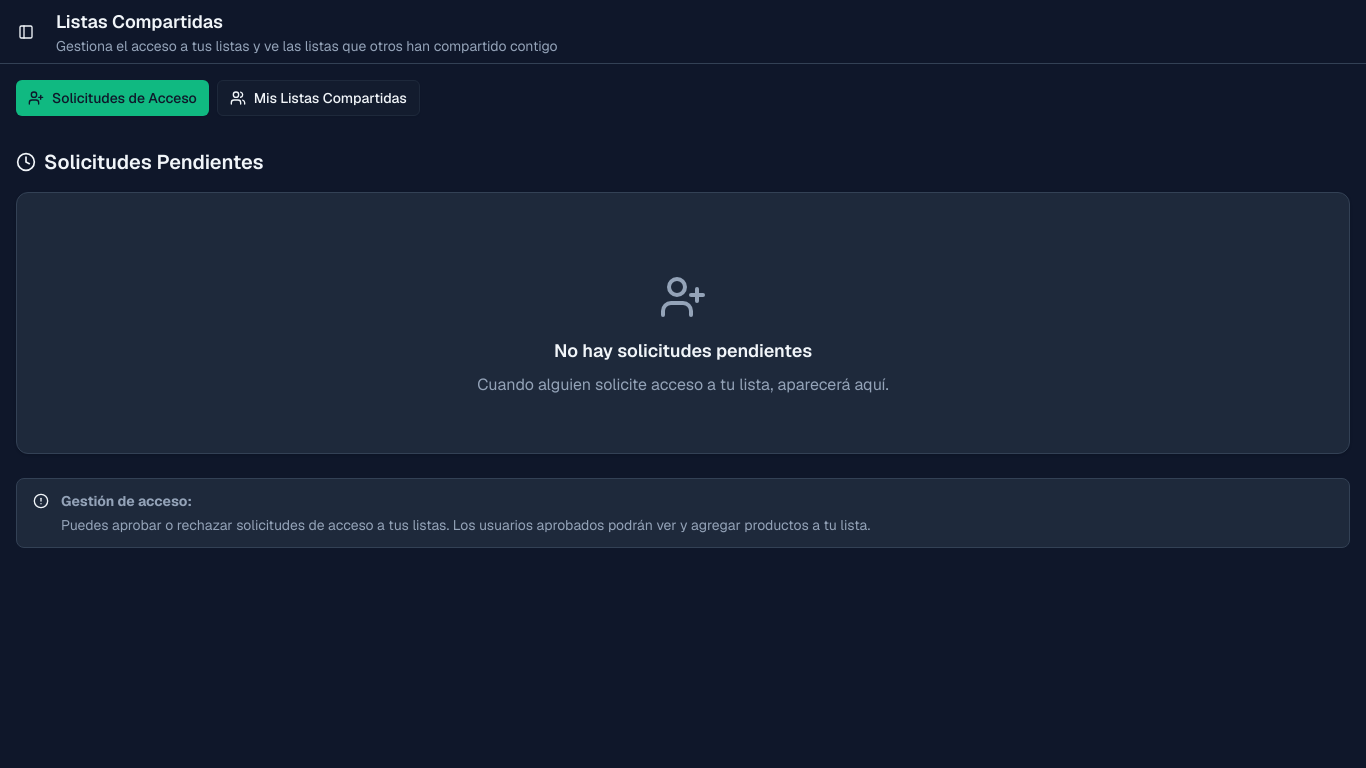
Scenario: SharedListsPage › should show empty state when no shared lists
The image size is (1366, 768).
Click the button "Mis Listas Compartidas". click: (318, 98)
box: 217,80 -> 420,116
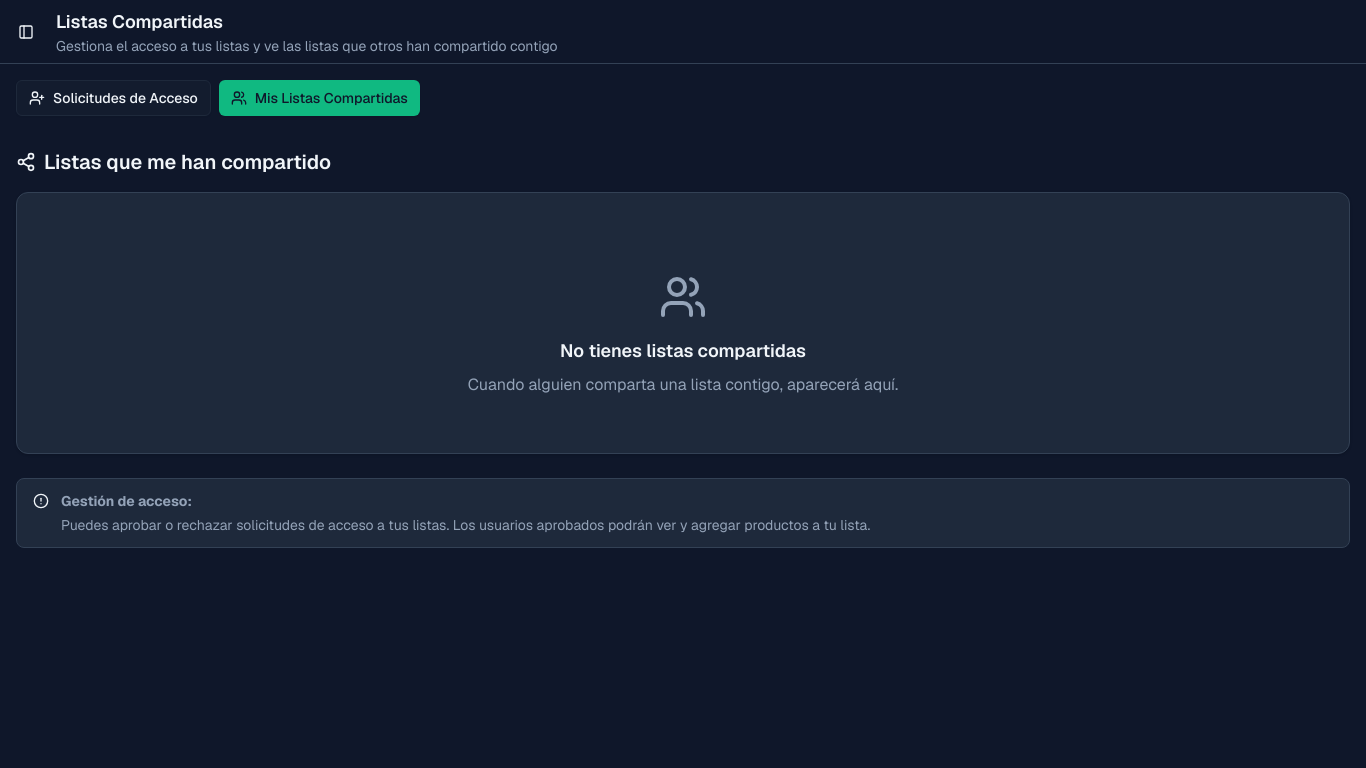
Result: the heading "No tienes listas compartidas" is shown at 560,339 -> 806,362
